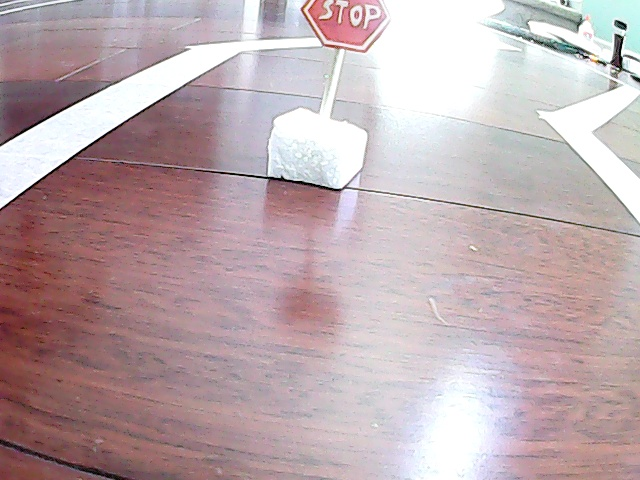stop: (288, 1, 387, 191)
